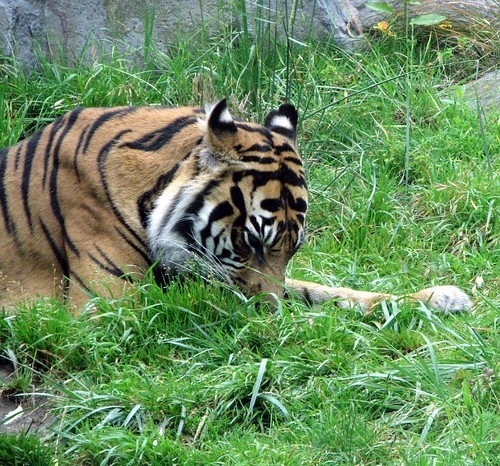tigre: (1, 92, 478, 336)
